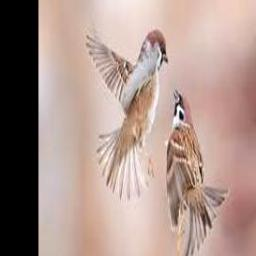Sparrow: (85, 31, 169, 202), (167, 88, 231, 256)
